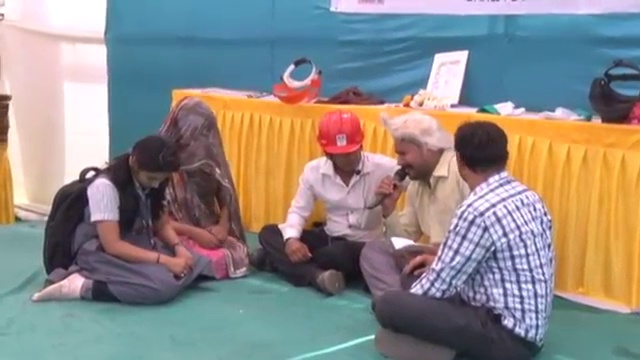helmet: (312, 111, 368, 156)
helmet_off: (444, 121, 517, 199), (388, 115, 447, 187), (164, 97, 219, 165), (122, 136, 179, 196)
helmet_on: (312, 113, 368, 180)
person: (365, 118, 557, 360), (36, 133, 199, 307), (250, 108, 400, 293), (357, 115, 473, 296), (147, 91, 250, 279)
